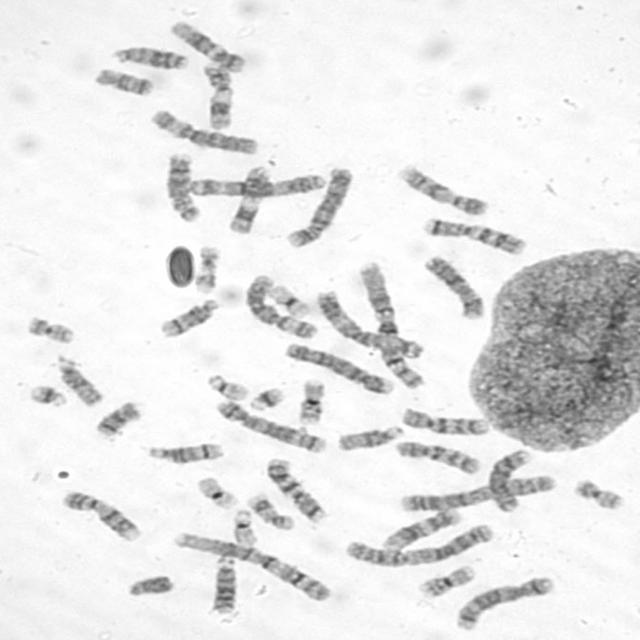A1: (169, 530, 334, 602), (354, 259, 427, 392)
A2: (340, 519, 496, 569), (395, 472, 557, 513)
A3: (313, 287, 427, 360), (185, 170, 328, 199)
B4: (280, 340, 396, 394), (282, 165, 355, 250)
B5: (212, 397, 327, 453), (452, 573, 557, 632)
C10: (391, 438, 482, 475), (396, 406, 492, 436)
C11: (222, 164, 273, 236), (198, 60, 236, 132)
C12: (165, 17, 247, 74), (379, 504, 463, 552)
C6: (146, 106, 261, 157), (241, 272, 319, 340)
C7: (263, 454, 328, 523), (419, 214, 528, 255)
C8: (485, 446, 533, 514), (162, 150, 202, 223)
C9: (394, 161, 488, 218), (58, 488, 144, 542)
D13: (108, 43, 190, 71), (208, 554, 239, 614)
D14: (155, 294, 221, 340), (144, 439, 225, 465)
D15: (53, 353, 105, 408), (334, 422, 406, 452)
E16: (414, 562, 478, 600), (292, 377, 327, 426)
E17: (243, 490, 296, 532), (188, 242, 222, 296)
E18: (90, 64, 156, 98), (90, 398, 144, 438)
F19: (264, 282, 314, 320), (193, 473, 241, 510)
F20: (570, 475, 624, 512), (22, 312, 78, 345)
G21: (244, 384, 288, 411), (26, 381, 70, 408)
G22: (202, 371, 251, 402), (228, 507, 260, 547)
X: (422, 253, 486, 320)
Y: (123, 572, 176, 598)
